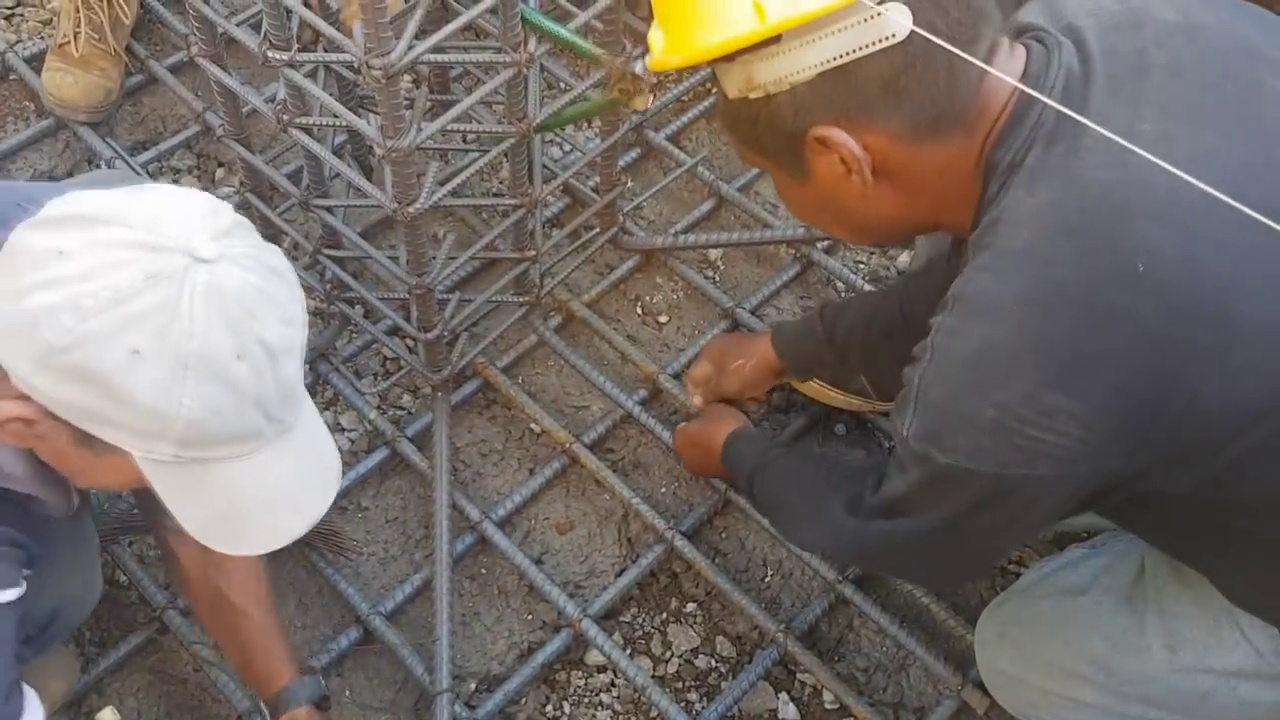helmet: (649, 2, 866, 99), (36, 0, 112, 98)
helmet-off: (0, 176, 327, 574)
helmet-on: (664, 0, 1019, 247)
person: (652, 9, 1280, 719), (0, 158, 337, 719)
